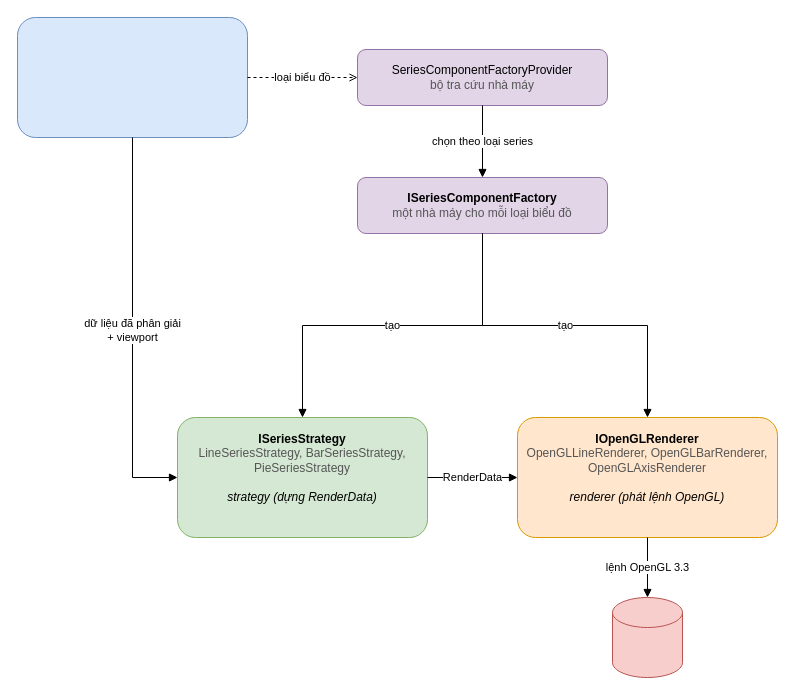
Some shapes in this 795 by 695 pixel diagram are drawn without their labels. Each missing label, with the centre of its shape:
"AbstractSeries LineSeries, BarSeries, PieSeries series (thuộc tính từ QML)" goes at point 132,77.
"GPU" goes at point 647,637.
